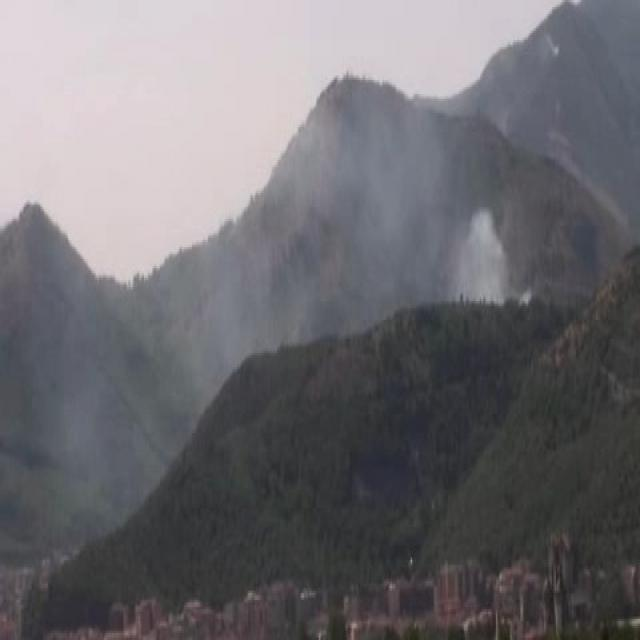smoke: (290, 125, 520, 302)
